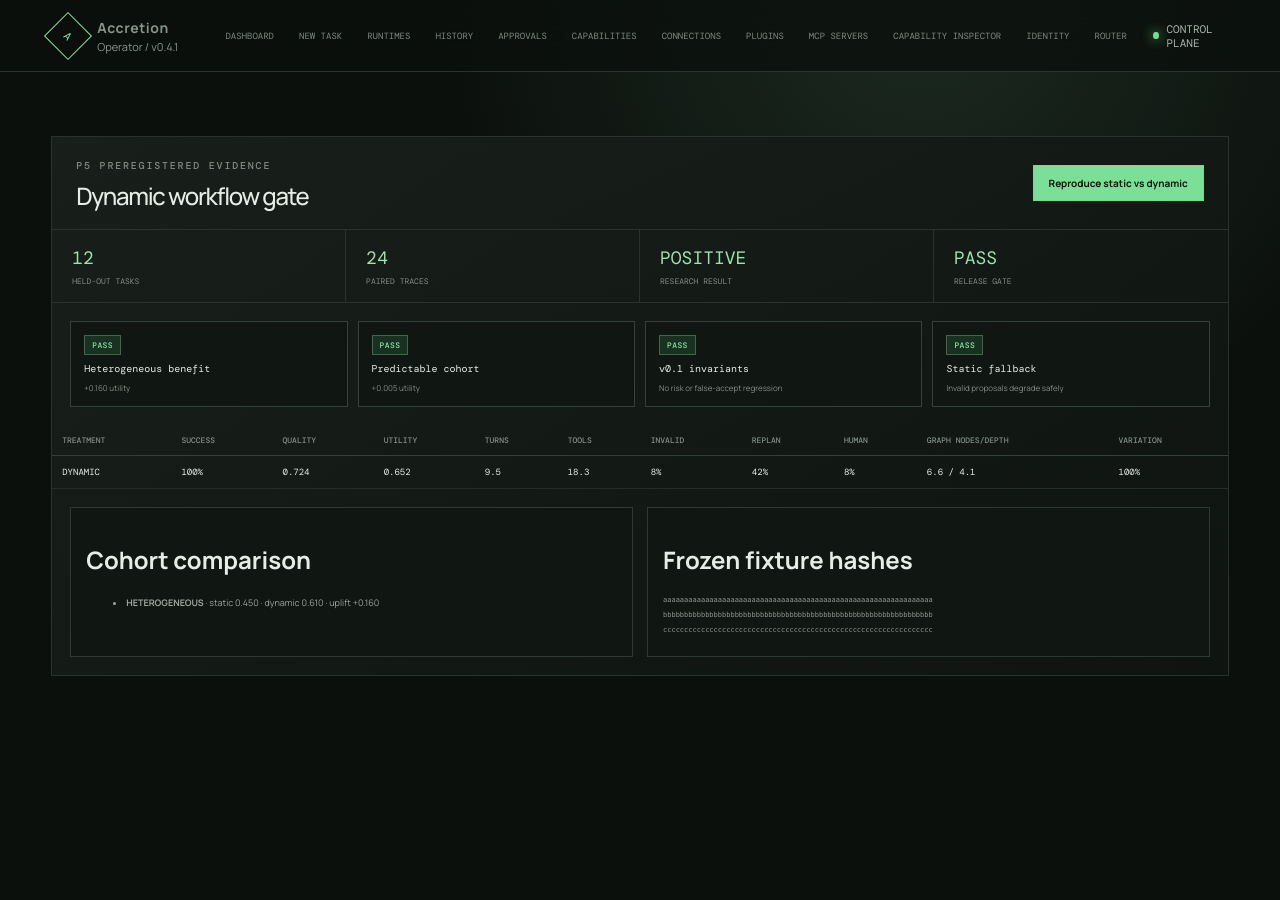
it: renders and reproduces the frozen P5 dynamic workflow gate
The image size is (1280, 900).
Expected: the heading "Dynamic workflow gate" is shown, [76,184,308,207]
Expected: the text "POSITIVE" is shown, [660,246,746,270]
Click the button "Reproduce static vs dynamic": [1118, 183] box [1033,165,1204,201]
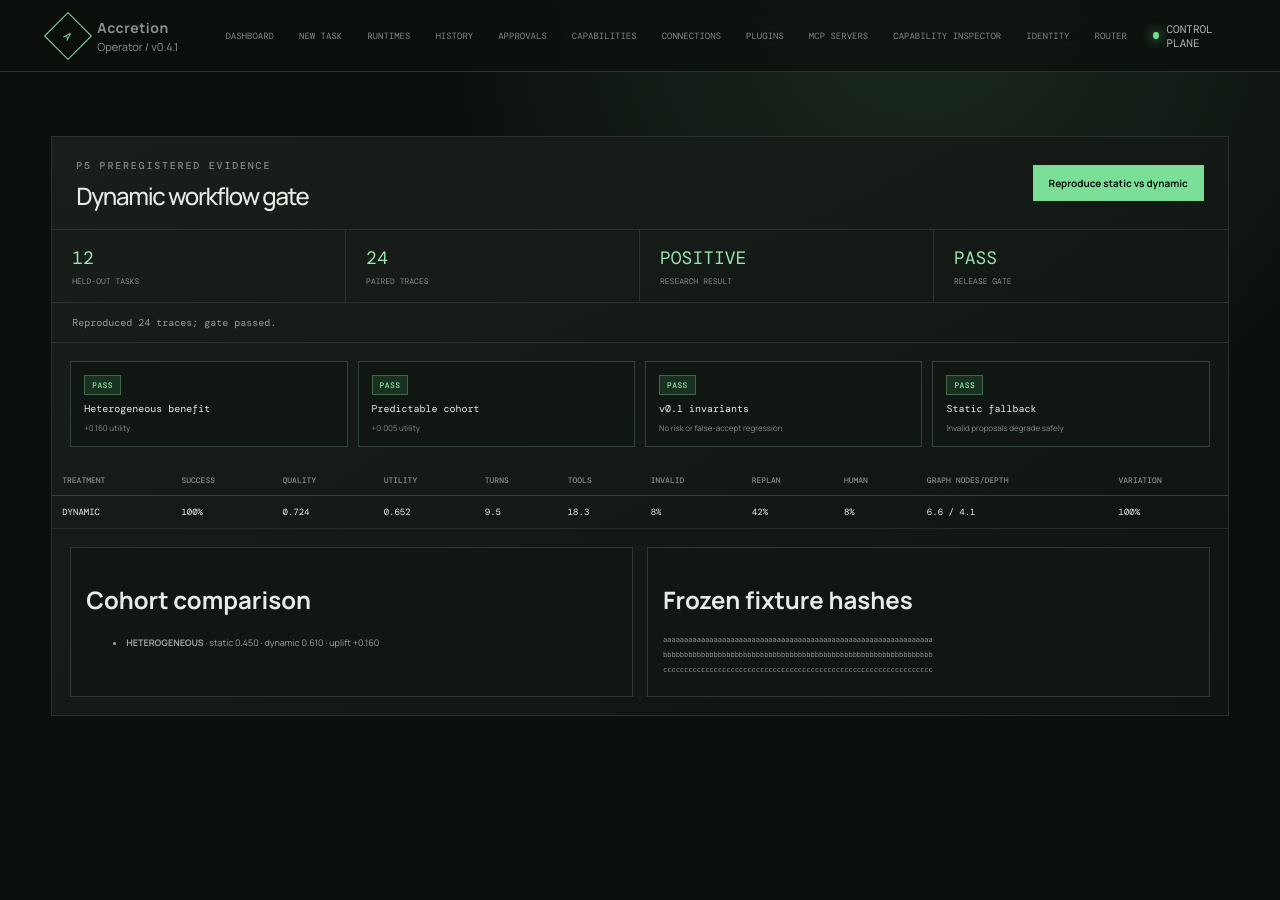
Now the text "Reproduced 24 traces; gate passed." is shown, box [52,303,1228,343]
